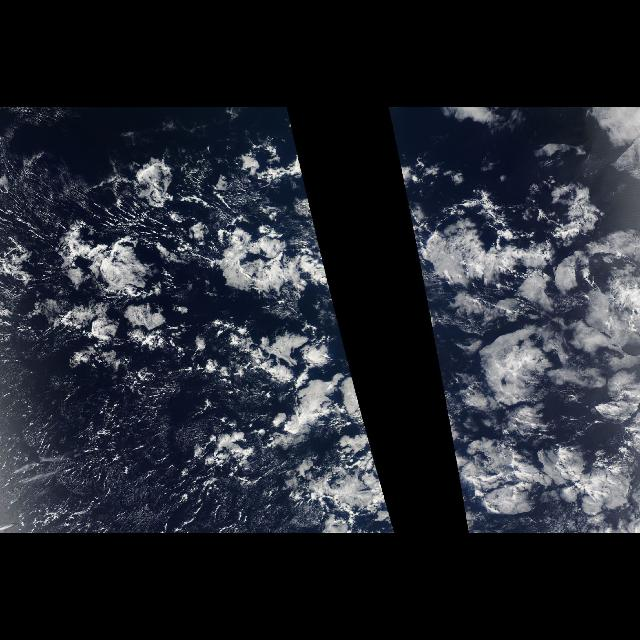Gravel: (13, 221, 259, 464)
Sugar: (1, 361, 198, 534)
